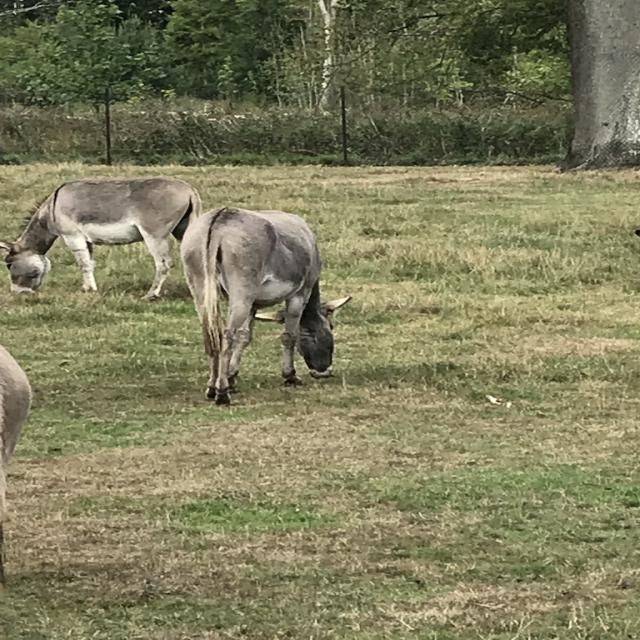Donkey: (178, 204, 354, 407), (0, 175, 204, 302), (0, 341, 34, 604)
